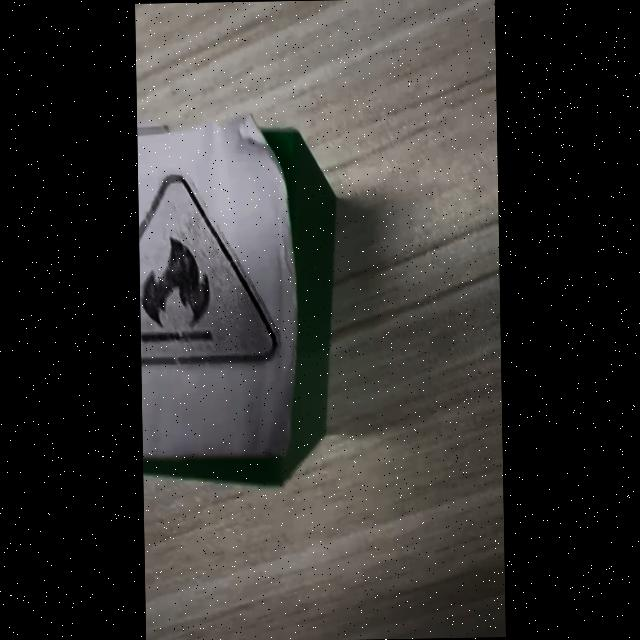Fire: (139, 174, 278, 364)
